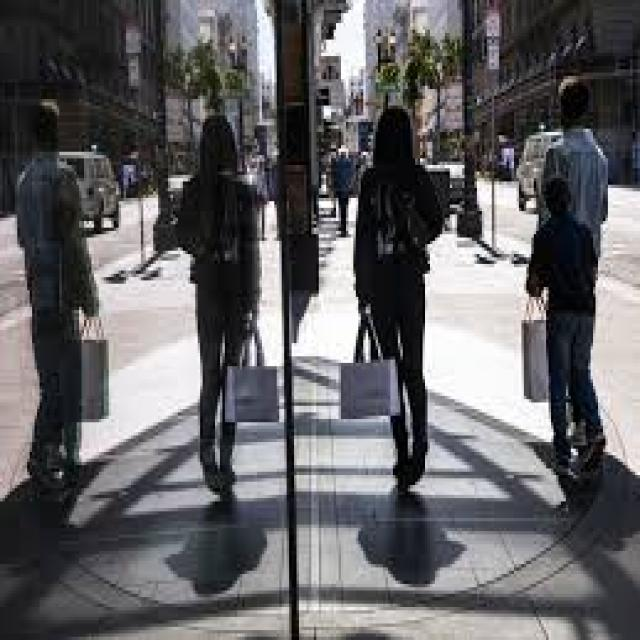Pedestrians: (7, 96, 114, 492), (353, 109, 438, 491), (178, 112, 262, 498), (524, 172, 603, 482)
